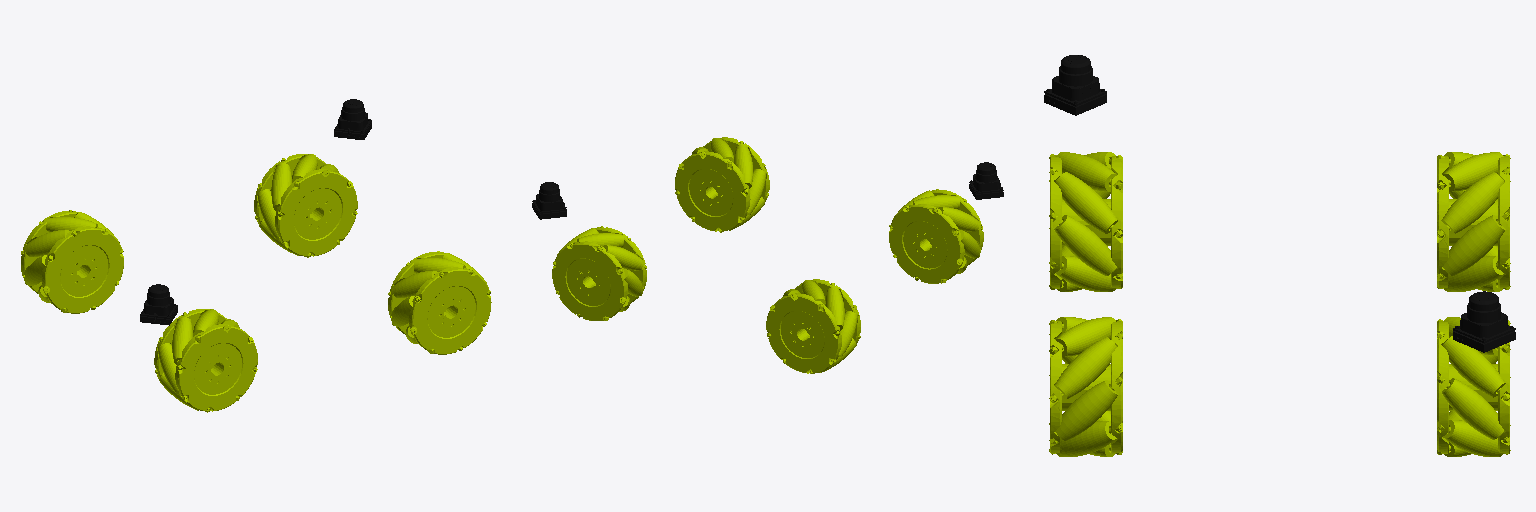
The robot description file, URDF, robot "agv":
<?xml version="1.0" encoding="utf-8"?>
<!-- This URDF was automatically created by SolidWorks to URDF Exporter! Originally created by [author] ([email redacted]) 
     Commit Version: 1.6.0-1-g15f4949  Build Version: 1.6.7594.29634
     For more information, please see http://wiki.ros.org/sw_urdf_exporter -->
<robot name="agv"> <!-- name changed -->
  <material name="frame_color">
    <color rgba="0.5 0.5 0.5 1" />
  </material>
    
  <material name="wheel_color">
    <color rgba="0.7 0.8 0.0 1" />
  </material>

  <material name="lidar_color">
    <color rgba="0.1 0.1 0.1 1" />
  </material>

  <link name="base_footprint"/> <!-- root link added -->

  <link name="base_link">
    <inertial>
      <origin
        xyz="0.0 0.0 0.0"
        rpy="0 0 0" />
      <mass value="30.0414558570331" />
      <inertia
        ixx="0.523789441005773"
        ixy="0.000606399487614046"
        ixz="3.78282636659352E-06"
        iyy="0.614587289833735"
        iyz="2.22135177280669E-06"
        izz="1.09112219495802" />
    </inertial>

    <visual name="visual">
      <origin
        xyz="0 0 0"
        rpy="0 0 0" />
      <geometry>
        <mesh filename="package://agv_description/meshes/AGV_FRAME.STL" />
      </geometry>
      <material name="frame_color"/>
    </visual>

    <collision name="collision">
      <origin
        xyz="0 0 0.155"
        rpy="0 0 0" />
      <geometry>
        <!-- <mesh filename="package://agv_description/meshes/AGV_FRAME.STL" /> -->
        <box size="0.9 0.8 0.23"/>
      </geometry>
    </collision>
  </link>

  <link name="front_left_wheel">
    <inertial>
      <origin
        xyz="3.4972E-07 -3.0069E-05 -1.0861E-07"
        rpy="0 0 0" />
      <mass value="1.9445" />
      <inertia
        ixx="0.0025998"
        ixy="1.0152E-09"
        ixz="4.9572E-09"
        iyy="0.004103"
        iyz="2.3451E-09"
        izz="0.002596" />
    </inertial>

    <visual name="visual">
      <origin
        xyz="0 0 0"
        rpy="0 0 0" />
      <geometry>
        <mesh filename="package://agv_description/meshes/WHEEL_FL.STL" />
      </geometry>
      <material name="wheel_color"/>
    </visual>

    <collision name="collision">
      <origin
        xyz="0 0 0"
        rpy="1.5708 0 0" />
      <geometry>
        <!-- <mesh filename="package://agv_description/meshes/WHEEL_FL.STL" /> -->
        <cylinder radius="0.1016" length="0.105"/>
      </geometry>
    </collision>
  </link>

  <link name="front_right_wheel">
    <inertial>
      <origin
        xyz="3.9273E-07 3.0338E-05 -1.702E-08"
        rpy="0 0 0" />
      <mass value="1.9445" />
      <inertia
        ixx="0.0025996"
        ixy="-2.1514E-10"
        ixz="1.1288E-09"
        iyy="0.0041027"
        iyz="-3.7002E-10"
        izz="0.0025958" />
    </inertial>

    <visual name="visual">
      <origin
        xyz="0 0 0"
        rpy="0 0 0" />
      <geometry>
        <mesh filename="package://agv_description/meshes/WHEEL_FR.STL" />
      </geometry>
      <material name="wheel_color"/>
    </visual>

    <collision name="collision">
      <origin
        xyz="0 0 0"
        rpy="1.5708 0 0" />
      <geometry>
        <!-- <mesh filename="package://agv_description/meshes/WHEEL_FR.STL" /> -->
        <cylinder radius="0.1016" length="0.105"/>
      </geometry>
    </collision>
  </link>

  <link name="back_left_wheel">
    <inertial>
      <origin
        xyz="3.9272E-07 3.0338E-05 -1.7043E-08"
        rpy="0 0 0" />
      <mass value="1.9445" />
      <inertia
        ixx="0.0025996"
        ixy="-2.1534E-10"
        ixz="1.1303E-09"
        iyy="0.0041027"
        iyz="-3.7031E-10"
        izz="0.0025958" />
    </inertial>

    <visual name="visual">
      <origin
        xyz="0 0 0"
        rpy="0 0 0" />
      <geometry>
        <mesh filename="package://agv_description/meshes/WHEEL_RL.STL" />
      </geometry>
      <material name="wheel_color"/>
    </visual>

    <collision name="collision">
      <origin
        xyz="0 0 0"
        rpy="1.5708 0 0" />
      <geometry>
        <!-- <mesh filename="package://agv_description/meshes/WHEEL_RL.STL" /> -->
        <cylinder radius="0.1016" length="0.105"/>
      </geometry>
    </collision>
  </link>

  <link name="back_right_wheel">
    <inertial>
      <origin
        xyz="3.4972E-07 -3.0069E-05 -1.0861E-07"
        rpy="0 0 0" />
      <mass value="1.9445" />
      <inertia
        ixx="0.0025998"
        ixy="9.0233E-10"
        ixz="5.1138E-09"
        iyy="0.004103"
        iyz="2.7176E-09"
        izz="0.002596" />
    </inertial>

    <visual name="visual">
      <origin
        xyz="0 0 0"
        rpy="0 0 0" />
      <geometry>
        <mesh filename="package://agv_description/meshes/WHEEL_RR.STL" />
      </geometry>
      <material name="wheel_color"/>
    </visual>

    <collision name="collision">
      <origin
        xyz="0 0 0"
        rpy="1.5708 0 0" />
      <geometry>
        <!-- <mesh filename="package://agv_description/meshes/WHEEL_RR.STL" /> -->
        <cylinder radius="0.1016" length="0.105"/>
      </geometry>
    </collision>
  </link>

  <link name="imu_link"/> <!-- added -->

  <link name="base_scan"/> <!-- added -->

  <link name="rplidar_r">
    <inertial> 
      <origin
        xyz="9.2203E-06 7.9132E-05 -0.025681"
        rpy="0 0 0" />
      <mass value="0.053604" />
      <inertia
        ixx="2.2348E-05"
        ixy="9.4158E-08"
        ixz="-2.1314E-08"
        iyy="2.2179E-05"
        iyz="-5.2609E-09"
        izz="4.06E-05" />
    </inertial>

    <visual name="visual">
      <origin
        xyz="0 0 0"
        rpy="0 0 0" />
      <geometry>
        <mesh filename="package://agv_description/meshes/RPLidar_FL.STL" />
      </geometry>
      <material name="lidar_color"/>
    </visual>

    <collision name="collision">
      <origin
        xyz="0 0 0"
        rpy="0 0 0" />
      <geometry>
        <mesh filename="package://agv_description/meshes/RPLidar_FL.STL" />
      </geometry>
    </collision>
  </link>

  <link name="rplidar_l">
    <inertial>
      <origin xyz="-9.2203E-06 -7.9132E-05 -0.025681" rpy="0 0 0" />
      <mass value="0.053604" />
      <inertia
        ixx="2.2348E-05"
        ixy="9.4158E-08"
        ixz="2.1314E-08"
        iyy="2.2179E-05"
        iyz="5.2609E-09"
        izz="4.06E-05" />
    </inertial>

    <visual name="visual">
      <origin
        xyz="0 0 0"
        rpy="0 0 0" />
      <geometry>
        <mesh filename="package://agv_description/meshes/RPLidar_RR.STL" />
      </geometry>
      <material name="lidar_color"/>
    </visual>

    <collision name="collision">
      <origin
        xyz="0 0 0"
        rpy="0 0 0" />
      <geometry>
        <mesh filename="package://agv_description/meshes/RPLidar_RR.STL" />
      </geometry>
    </collision>
  </link>

  <!-- [JOINT] -->
  <joint name="JOINT_BASE" type="fixed">
    <origin 
      xyz="0.0 0.0 0.0"
      rpy="0.0 0.0 0.0" />
    <parent link="base_footprint"/>
    <child link="base_link"/>
  </joint>

  <joint name="JOINT_WH_FL" type="continuous">
    <origin
      xyz="0.282 0.2797 0.10363"
      rpy="0 -0.030032 0" />
    <parent link="base_link" />
    <child link="front_left_wheel" />
    <axis xyz="0 1 0" />
  </joint>

  <joint name="JOINT_WH_FR" type="continuous">
    <origin
      xyz="0.282 -0.2799 0.10363"
      rpy="0 0 0" />
    <parent link="base_link" />
    <child link="front_right_wheel" />
    <axis xyz="0 1 0" />
  </joint>

  <joint name="JOINT_WH_RL" type="continuous">
    <origin
      xyz="-0.282 0.2797 0.10363"
      rpy="0 0 0" />
    <parent link="base_link" />
    <child link="back_left_wheel" />
    <axis xyz="0 1 0" />
  </joint>

  <joint name="JOINT_WH_RR" type="continuous">
    <origin
      xyz="-0.282 -0.2799 0.10363"
      rpy="0 0 0" />
    <parent link="base_link" />
    <child link="back_right_wheel" />
    <axis xyz="0 1 0" />
  </joint>

  <joint name="JOINT_BASE_IMU" type="fixed">
    <origin 
      xyz="0.0 0.0 0.0"
      rpy="0.0 0.0 0.0" />
    <parent link="base_link"/> <!-- connected to 'base_link' -->
    <child link="imu_link"/>
  </joint>

  <joint name="JOINT_BASE_SCAN" type="fixed">
    <origin
      xyz="0.0 0.0 0.28046"
      rpy="0.0 0.0 0.0" />
    <parent link="base_link" /> <!-- connected to 'base_link' -->
    <child link="base_scan" />
  </joint>

  <joint name="JOINT_RPLidar_FL" type="fixed"> 
    <origin
      xyz="0.405 0.295 0.0"
      rpy="0 0 3.92699" /> <!-- Orientation fixed -->
    <parent link="base_scan" /> <!-- connected to 'base_scan' -->
    <child link="rplidar_l" /> 
    <!-- 'fixed' joint: 'axis' attribute not necessary -->
  </joint>

  <joint name="JOINT_RPLidar_RR" type="fixed"> 
    <origin
      xyz="-0.405 -0.295 0.0"
      rpy="0 0 0.785398" />
    <parent link="base_scan" /> <!-- connected to 'base_scan' -->
    <child link="rplidar_r" /> 
    <!-- 'fixed' joint: 'axis' attribute not necessary -->
  </joint>

  <!-- [SIMULATION PLUGINS] -->
  <gazebo>
    <plugin name="test" filename="libgazebo_ros_planar_move.so">
        <commandTopic>cmd_vel</commandTopic>
        <odometryTopic>odom</odometryTopic>
        <odometryFrame>odom</odometryFrame>
        <odometryRate>50.0</odometryRate>
        <robotBaseFrame>base_footprint</robotBaseFrame>
    </plugin>
  </gazebo>

  <gazebo reference="front_left_wheel">
      <mu1>0.1</mu1>
      <!-- <mu2>0.1</mu2> -->
      <fdir1>1 1 0</fdir1>
      <!-- fdir2? -->
  </gazebo>

  <gazebo reference="front_right_wheel">
      <mu1>0.1</mu1>
      <!-- <mu2>0.1</mu2> -->
      <fdir1>1 1 0</fdir1>
  </gazebo>

  <gazebo refernece="back_left_wheel">
      <mu1>0.1</mu1>
      <!-- <mu2>0.1</mu2> -->
      <fdir1>1 1 0</fdir1>
  </gazebo>

  <gazebo reference="back_right_wheel">
      <mu1>0.1</mu1>
      <!-- <mu2>0.1</mu2> -->
      <fdir1>1 1 0</fdir1>
  </gazebo>

  <gazebo reference="imu_link">
      <sensor type="imu" name="imu">
          <always_on>true</always_on>
          <visualize>false</visualize>
          <plugin filename="libgazebo_ros_imu_sensor.so" name="imu_plugin">
              <alwaysOn>true</alwaysOn>
              <topicName>imu</topicName>
              <bodyName>imu_link</bodyName>
              <frameName>imu_link</frameName>
              <!-- <serviceName>imu_service</serviceName> -->
              <updateRateHZ>50.0</updateRateHZ>
              <gaussianNoise>0.0</gaussianNoise>
              <imu>
                  <noise>
                      <type>gaussian</type>
                      <rate>
                          <mean>0.0</mean>
                          <stddev>2e-4</stddev>
                          <bias_mean>0.0000075</bias_mean>
                          <bias_stddev>0.0000008</bias_stddev>
                      </rate>
                      <accel>
                          <mean>0.0</mean>
                          <stddev>1.7e-2</stddev>
                          <bias_mean>0.1</bias_mean>
                          <bias_stddev>0.001</bias_stddev>
                      </accel>
                  </noise>
              </imu>
          </plugin>
      </sensor>
      <material>Gazebo/FlatBlack</material>
  </gazebo>

  <gazebo reference="rplidar_l">
      <sensor type="ray" name="rplidar_l">
          <pose>0 0 0 0 0 0</pose>
          <visualize>true</visualize>
          <update_rate>10</update_rate>
          <ray>
              <scan>
                  <horizontal>
                      <samples>360</samples>
                      <resolution>1.916666667</resolution>
                      <min_angle>0.785398</min_angle>
                      <max_angle>5.497786</max_angle>
                  </horizontal>
              </scan>
              <range>
                  <min>0.1</min>
                  <max>40.0</max>
                  <resolution>0.03</resolution>
              </range>
              <noise>
                  <type>gaussian</type>
                  <mean>0.0</mean>
                  <stddev>0.01</stddev>
              </noise>
          </ray>
          <plugin name="rplidar_l" filename="libgazebo_ros_laser.so">
              <topicName>/scan_1</topicName>
              <frameName>rplidar_l</frameName>
          </plugin>
      </sensor>
  </gazebo>

  <gazebo reference="rplidar_r">
      <sensor type="ray" name="rplidar_r">
          <pose>0 0 0 0 0 0</pose>
          <visualize>true</visualize>
          <update_rate>10</update_rate>
          <ray>
              <scan>
                  <horizontal>
                      <samples>360</samples>
                      <resolution>1.916666667</resolution>
                      <min_angle>0.785398</min_angle>
                      <max_angle>5.497786</max_angle>
                  </horizontal>
              </scan>
              <range>
                  <min>0.1</min>
                  <max>40.0</max>
                  <resolution>0.03</resolution>
              </range>
              <noise>
                  <type>gaussian</type>
                  <mean>0.0</mean>
                  <stddev>0.01</stddev>
              </noise>
          </ray>
          <plugin name="rplidar_r" filename="libgazebo_ros_laser.so">
              <topicName>/scan_2</topicName>
              <frameName>rplidar_r</frameName>
          </plugin>
      </sensor>
  </gazebo>
</robot>

--- Render facts (derived) ---
Views: 3 orthographic renders of the robot side by side, from view 1: azimuth 30°, elevation 25°; view 2: azimuth 150°, elevation 25°; view 3: azimuth 270°, elevation 25°.
Model agv with 10 links and 9 joints (4 continuous, 5 fixed), rooted at base_footprint, posed every joint at zero.
Visible links, largest first — view 1: back_right_wheel, front_left_wheel, front_right_wheel, back_left_wheel, rplidar_l, rplidar_r; view 2: front_right_wheel, back_right_wheel, back_left_wheel, front_left_wheel, rplidar_l, rplidar_r; view 3: front_right_wheel, back_right_wheel, back_left_wheel, front_left_wheel, rplidar_l, rplidar_r.
Link boxes in pixels (x1,y1,x2,y2): back_right_wheel: [154, 309, 257, 412]; front_left_wheel: [254, 154, 357, 257]; front_right_wheel: [388, 251, 491, 354]; back_left_wheel: [21, 210, 123, 313]; rplidar_l: [334, 99, 371, 139]; rplidar_r: [140, 284, 177, 325]; front_right_wheel: [675, 137, 769, 232]; back_right_wheel: [889, 189, 983, 283]; back_left_wheel: [766, 279, 860, 373]; front_left_wheel: [552, 226, 646, 320]; rplidar_l: [532, 182, 566, 219]; rplidar_r: [969, 162, 1003, 199]; front_right_wheel: [1049, 317, 1122, 456]; back_right_wheel: [1049, 152, 1122, 291]; back_left_wheel: [1437, 152, 1510, 291]; front_left_wheel: [1437, 317, 1510, 456]; rplidar_l: [1453, 291, 1515, 352]; rplidar_r: [1044, 55, 1106, 115].
Size in the robot's own frame: 0.9005 by 0.6805 by 0.3036 metres.
Meshes: 7 distinct files referenced, 6 mesh visuals loaded (6 binary STL); not drawn: 1 (reference not matched to a file when rendering).
